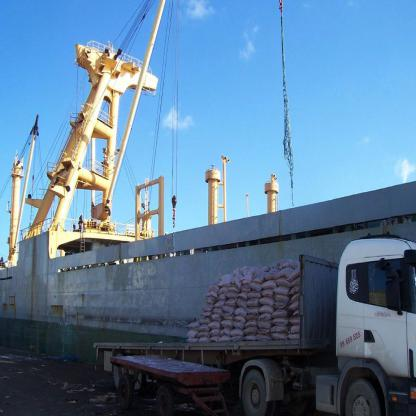Truck: (108, 260, 384, 414)
